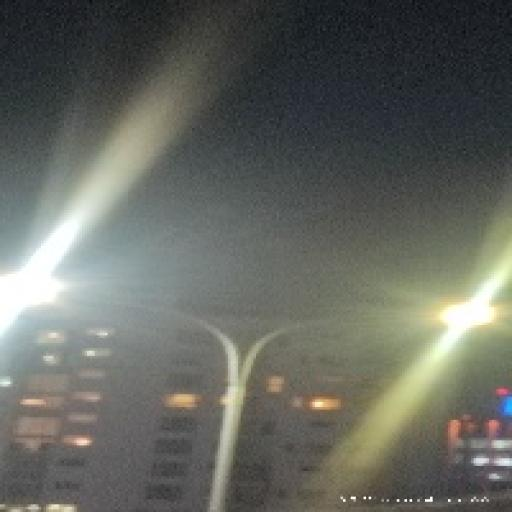Working: (417, 290, 508, 345), (1, 260, 64, 323)
